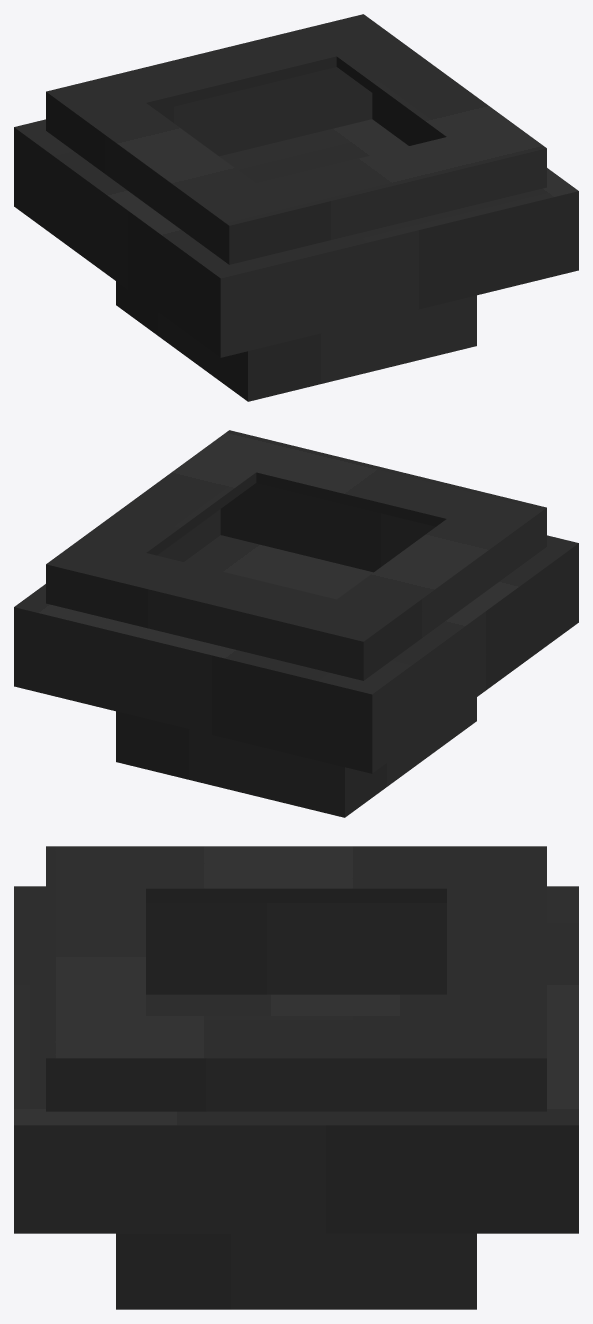
Rendered from arc_lamp.obj.
The picture shows the model from 3 angles, top to bottom: view 1: azimuth 30°, elevation 25°; view 2: azimuth 150°, elevation 25°; view 3: azimuth 270°, elevation 25°; orthographic projection. The views are drawn at different scales.
Parts seen in each view (by area): view 1: main; view 2: main; view 3: main.
Part boxes in pixels (left/top/right/bottom): main: left=14, top=14, right=578, bottom=401; main: left=14, top=430, right=578, bottom=817; main: left=14, top=846, right=578, bottom=1309.
Bounding box in the file's own units: 12.9 × 7.08 × 12.9.
